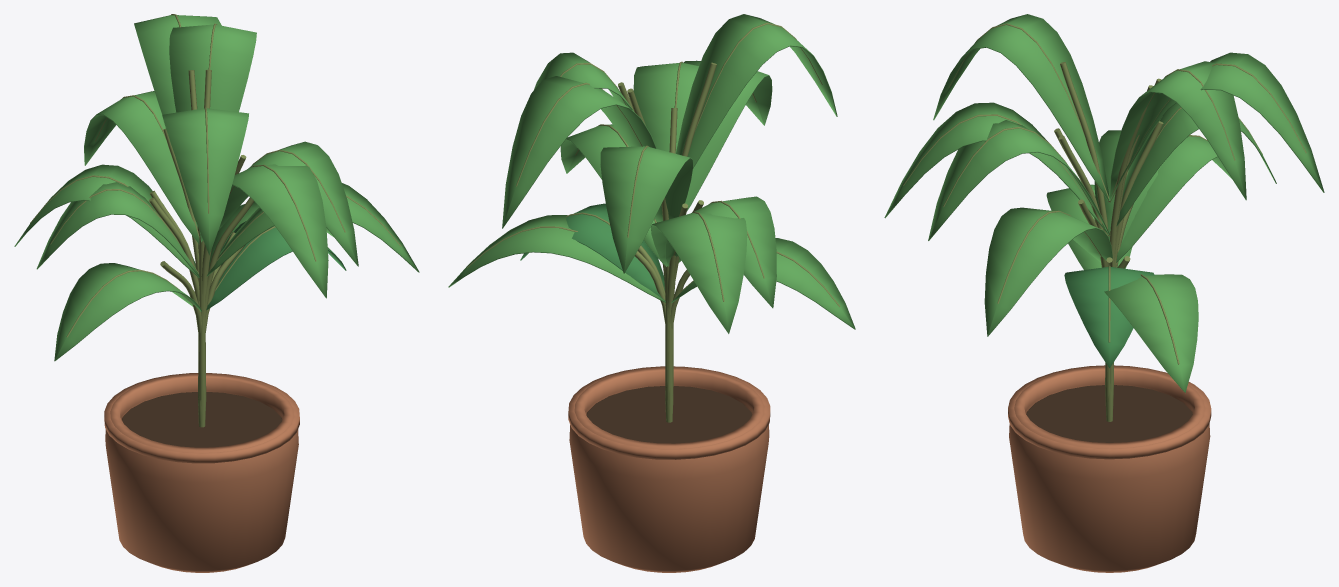
The model's file is HotelTogether-PalmPlanter.glb.
3 renders of one model, left to right at view 1: azimuth 30°, elevation 25°; view 2: azimuth 150°, elevation 25°; view 3: azimuth 270°, elevation 25°, orthographic. The views are drawn at different scales.
Visible parts, largest first — view 1: Pot_ContinuousShell, Palm_Leaf.007, Palm_Leaf.002, Pot_Soil, Palm_Leaf.003, Palm_Leaf.006, Palm_Leaf.004, Palm_Leaf.009, Palm_Leaf.010, Pot_Rim, Palm_Leaf.011, Palm_Leaf.001 (+8 smaller); view 2: Pot_ContinuousShell, Palm_Leaf.011, Palm_Leaf.007, Palm_Leaf.006, Pot_Soil, Palm_Leaf.001, Palm_Leaf.008, Palm_Leaf.010, Palm_Leaf.009, Pot_Rim, Palm_Leaf.004, Palm_Leaf.002 (+7 smaller); view 3: Pot_ContinuousShell, Palm_Leaf.007, Palm_Leaf.005, Pot_Soil, Palm_Leaf.003, Palm_Leaf.008, Palm_Leaf.011, Palm_Leaf.010, Palm_Leaf.002, Palm_Leaf, Palm_Leaf.001, Pot_Rim (+7 smaller).
Boxes of the visible parts, <box> form: Pot_ContinuousShell: <box>105,374,298,572</box>; Palm_Leaf.007: <box>162,108,248,255</box>; Palm_Leaf.002: <box>200,164,328,298</box>; Pot_Soil: <box>122,392,282,447</box>; Palm_Leaf.003: <box>169,24,256,112</box>; Palm_Leaf.006: <box>84,91,199,244</box>; Palm_Leaf.004: <box>54,263,201,361</box>; Palm_Leaf.009: <box>36,182,199,277</box>; Palm_Leaf.010: <box>232,141,358,266</box>; Pot_Rim: <box>104,373,299,463</box>; Palm_Leaf.011: <box>134,15,221,114</box>; Palm_Leaf.001: <box>14,164,198,277</box>; Pot_ContinuousShell: <box>569,368,769,572</box>; Palm_Leaf.011: <box>502,76,656,228</box>; Palm_Leaf.007: <box>676,14,837,168</box>; Palm_Leaf.006: <box>600,146,693,273</box>; Pot_Soil: <box>586,386,752,443</box>; Palm_Leaf.001: <box>650,213,747,333</box>; Palm_Leaf.008: <box>448,215,665,302</box>; Palm_Leaf.010: <box>633,63,698,153</box>; Palm_Leaf.009: <box>665,196,776,308</box>; Pot_Rim: <box>568,366,770,459</box>; Palm_Leaf.004: <box>671,238,855,329</box>; Palm_Leaf.002: <box>683,60,772,210</box>; Pot_ContinuousShell: <box>1009,367,1210,572</box>; Palm_Leaf.007: <box>933,14,1109,200</box>; Palm_Leaf.005: <box>984,207,1112,336</box>; Pot_Soil: <box>1026,385,1192,442</box>; Palm_Leaf.003: <box>1109,61,1246,200</box>; Palm_Leaf.008: <box>1104,274,1198,392</box>; Palm_Leaf.011: <box>1110,52,1324,200</box>; Palm_Leaf.010: <box>928,120,1109,240</box>; Palm_Leaf.002: <box>884,102,1108,234</box>; Palm_Leaf: <box>1064,266,1154,368</box>; Palm_Leaf.001: <box>1116,134,1231,262</box>; Pot_Rim: <box>1008,365,1211,459</box>.
Bounding box in the file's own units: 1.55 × 2.08 × 1.66.
